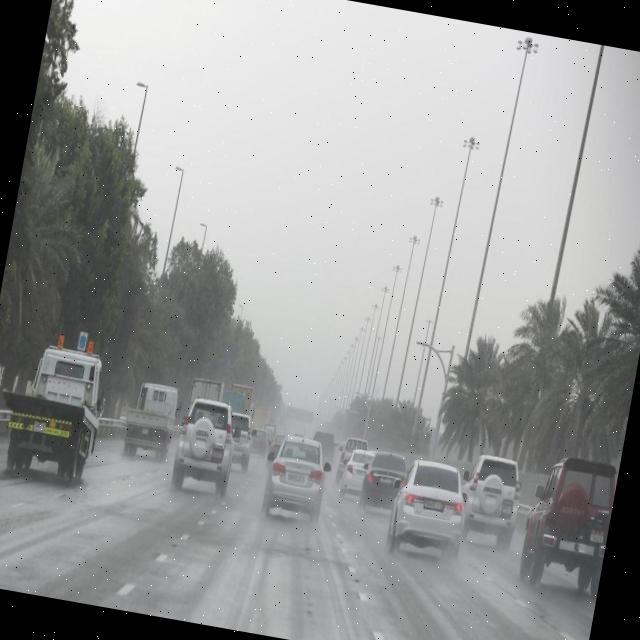bus: (0, 335, 112, 481), (119, 378, 183, 461)
car: (511, 447, 618, 601), (382, 454, 472, 563), (454, 447, 530, 548), (168, 403, 239, 495), (260, 432, 331, 522), (359, 448, 410, 512), (222, 407, 258, 462), (338, 448, 374, 500), (248, 422, 272, 456)
